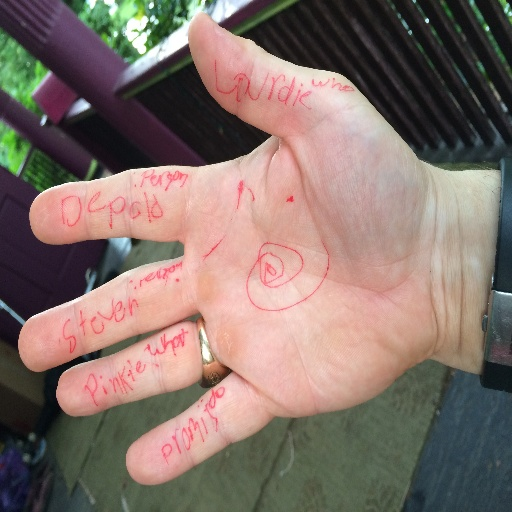hand: (18, 11, 435, 486)
